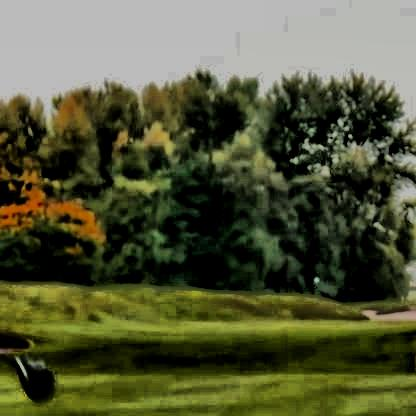golfball: (310, 275, 317, 282)
